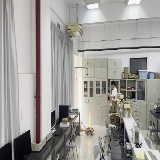fire: (86, 112, 92, 130)
